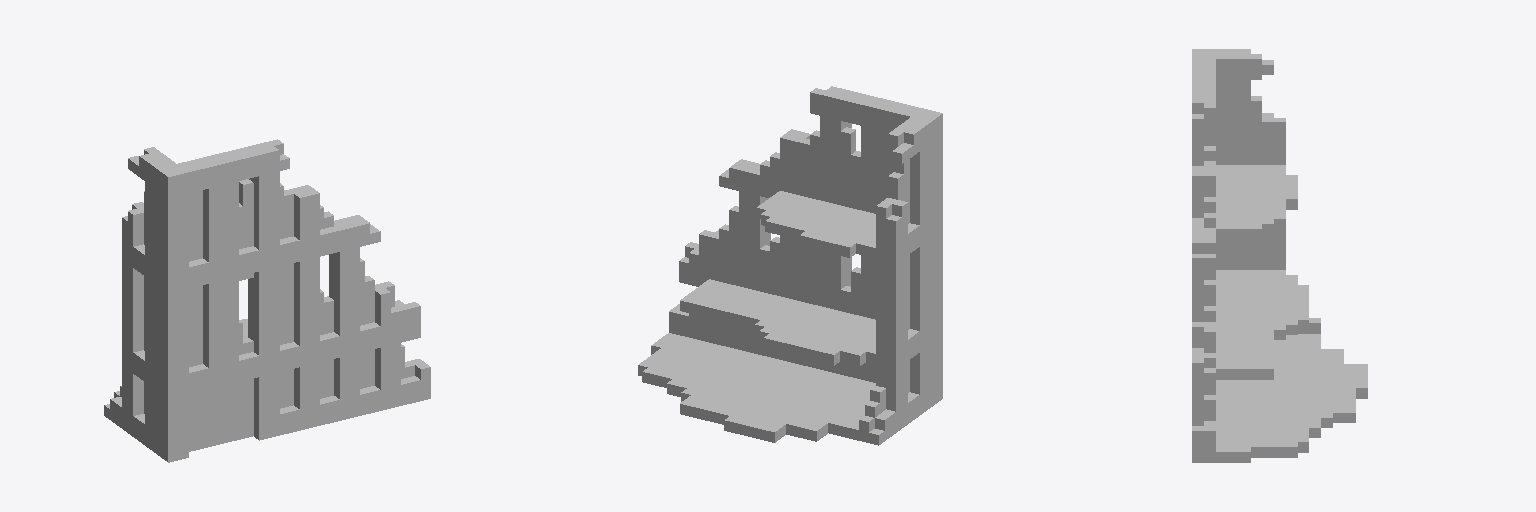
The model's file is Ruined WW1 Building.obj.
The picture shows the model from 3 angles: view 1: azimuth 30°, elevation 25°; view 2: azimuth 150°, elevation 25°; view 3: azimuth 270°, elevation 25°; orthographic projection.
Visible parts, largest first — view 1: object 1; view 2: object 1; view 3: object 1.
Part boxes in pixels (x1,y1,x2,y2): object 1: (104, 139, 430, 462); object 1: (638, 86, 942, 445); object 1: (1192, 49, 1367, 462).
Size of the model in its own units: 2.6 by 2.7 by 1.5.